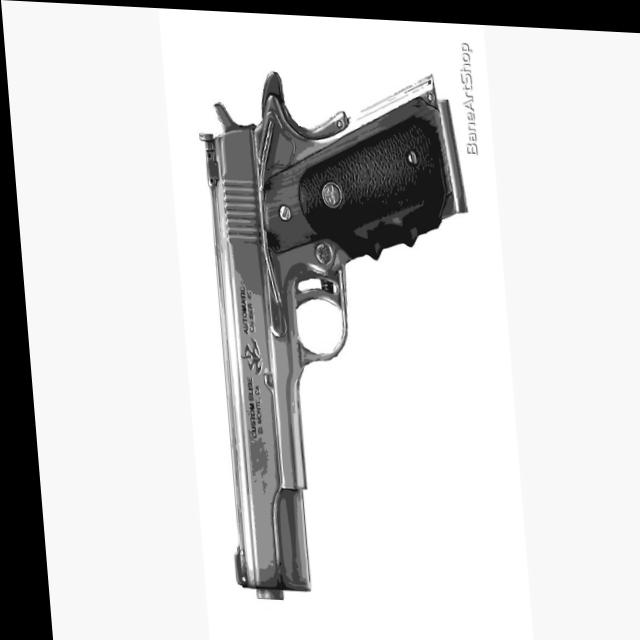handgun: (185, 54, 490, 613)
